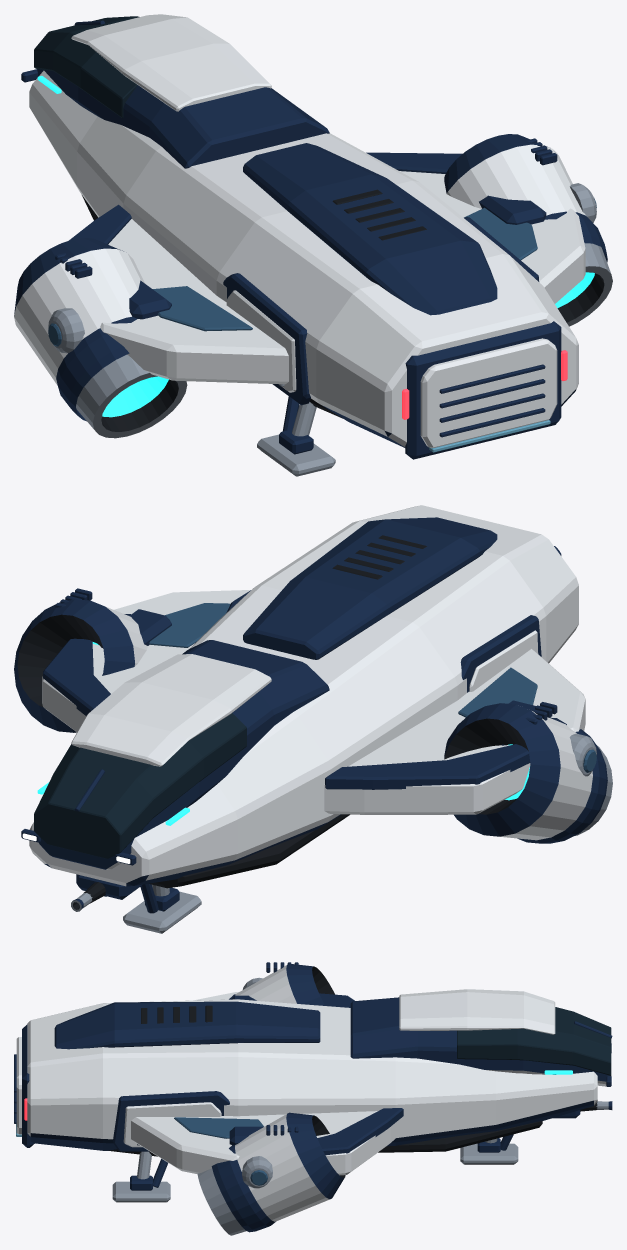
The model's file is helion_dropship.glb.
3 views of the same model, one above another, from view 1: azimuth 30°, elevation 25°; view 2: azimuth 150°, elevation 25°; view 3: azimuth 270°, elevation 25° (orthographic). The views are drawn at different scales.
Visible parts, largest first — view 1: Fixed_Hull, Vector_Engine_L_1_Mesh, Cargo_Ramp_Mesh, Vector_Engine_R_1_Mesh, Landing_Gear_01_Mesh; view 2: Fixed_Hull, Vector_Engine_L_1_Mesh, Vector_Engine_R_1_Mesh, Landing_Gear_03_Mesh, Chin_Turret_Mesh; view 3: Fixed_Hull, Vector_Engine_R_1_Mesh, Vector_Engine_L_1_Mesh, Landing_Gear_02_Mesh, Landing_Gear_03_Mesh, Cargo_Ramp_Mesh.
Part boxes in pixels (box(x1,y1,x2,y2)): Fixed_Hull: box(21, 14, 585, 459); Vector_Engine_L_1_Mesh: box(14, 238, 187, 438); Cargo_Ramp_Mesh: box(420, 338, 557, 452); Vector_Engine_R_1_Mesh: box(444, 134, 612, 326); Landing_Gear_01_Mesh: box(257, 396, 335, 476); Fixed_Hull: box(21, 505, 585, 888); Vector_Engine_L_1_Mesh: box(444, 702, 612, 843); Vector_Engine_R_1_Mesh: box(14, 588, 147, 732); Landing_Gear_03_Mesh: box(123, 883, 201, 933); Chin_Turret_Mesh: box(71, 874, 142, 911); Fixed_Hull: box(22, 989, 612, 1175); Vector_Engine_R_1_Mesh: box(197, 1112, 345, 1235); Vector_Engine_L_1_Mesh: box(229, 962, 334, 1005); Landing_Gear_02_Mesh: box(112, 1151, 170, 1202); Landing_Gear_03_Mesh: box(460, 1134, 518, 1164); Cargo_Ramp_Mesh: box(14, 1037, 21, 1136).
Bounding box in the file's own units: 18 × 6.8 × 24.
